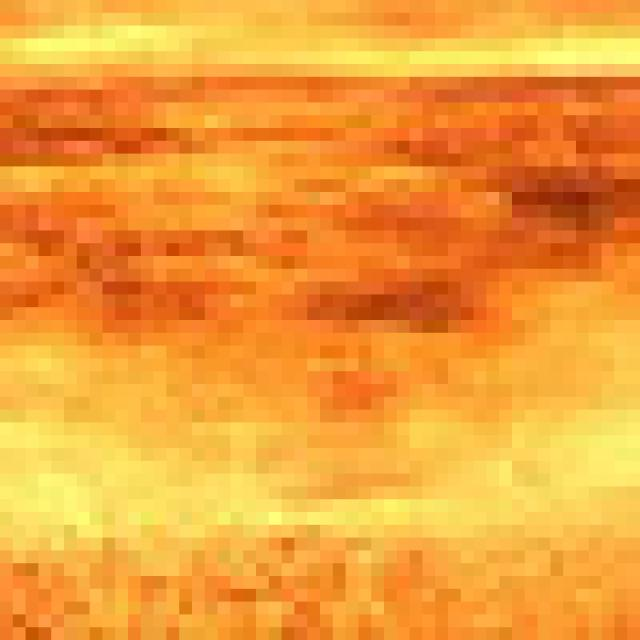no_fire: (13, 38, 627, 640)
